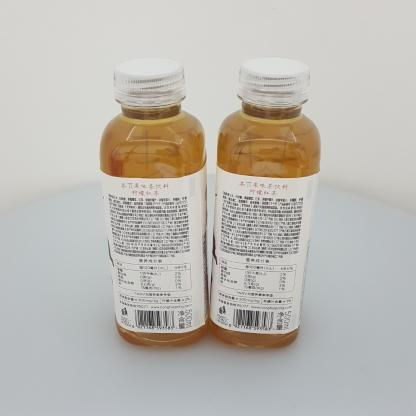------------: (208, 57, 321, 349), (99, 57, 209, 347)
